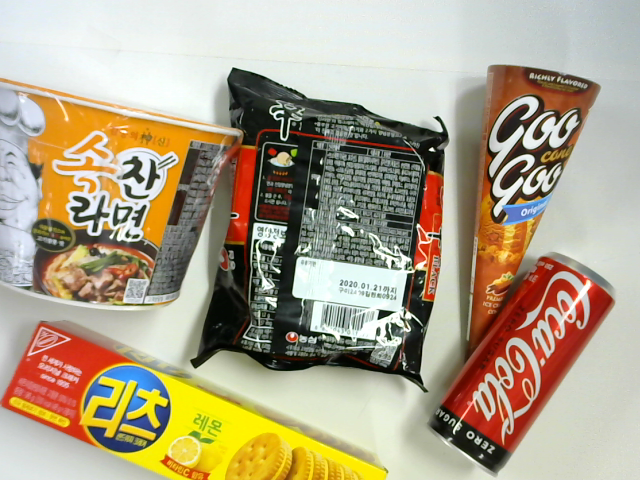Coca_Cola_Zero_Can_250ml: (428, 251, 616, 479)
GooGoo_Cone_CVS: (463, 62, 601, 366)
Hejangchan: (1, 76, 240, 309)
Ritz_Remon_96g: (1, 319, 383, 480)
Sinramen_Black: (204, 72, 438, 387)
